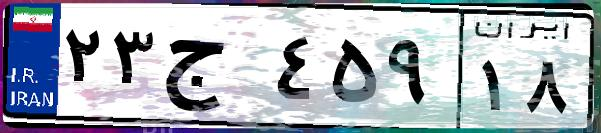1: (475, 38, 525, 113)
2: (57, 26, 110, 100)
3: (110, 28, 158, 98)
4: (270, 28, 330, 110)
5: (330, 28, 385, 110)
8: (525, 38, 570, 115)
9: (385, 28, 445, 110)
ج: (158, 20, 270, 120)
